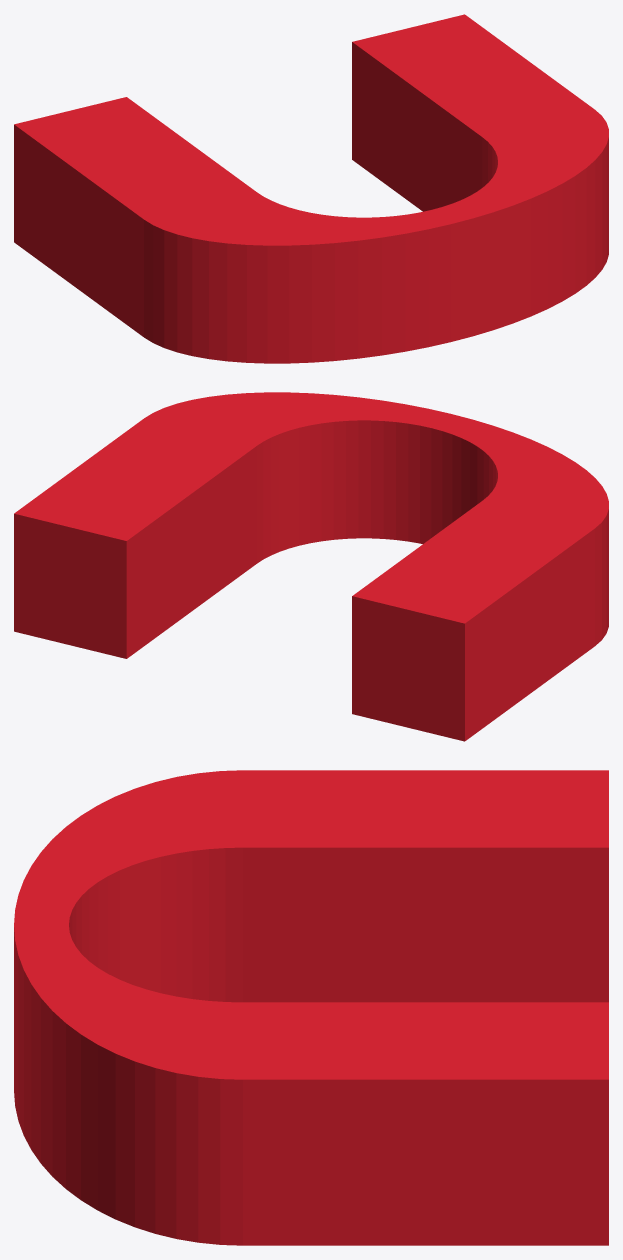
The model's file is tinker.obj.
The picture shows the model from 3 angles, top to bottom: view 1: azimuth 30°, elevation 25°; view 2: azimuth 150°, elevation 25°; view 3: azimuth 270°, elevation 25°; orthographic projection. The views are drawn at different scales.
Parts seen in each view (by area): view 1: obj_0; view 2: obj_0; view 3: obj_0.
Boxes of the visible parts, <box> form: obj_0: <box>14,14,608,363</box>; obj_0: <box>14,392,608,741</box>; obj_0: <box>14,770,608,1245</box>.
Size of the model in its own units: 80 by 20 by 65.
